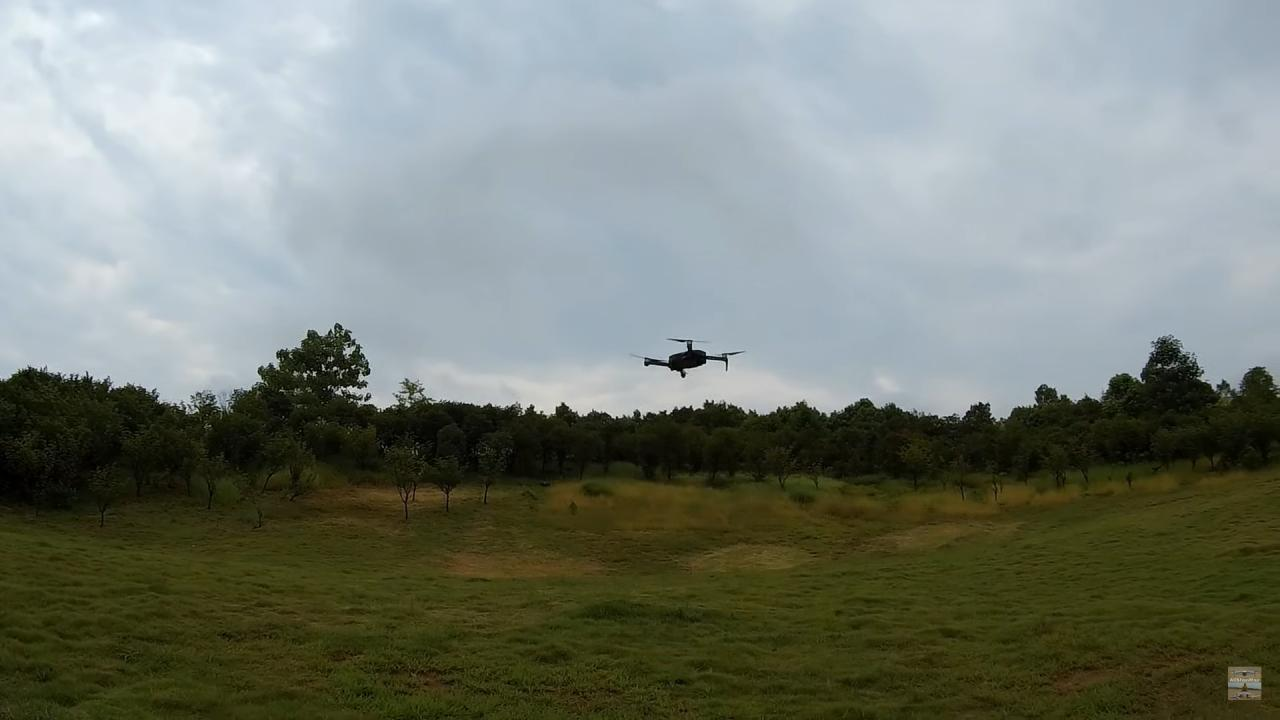Drone: (620, 327, 756, 389)
